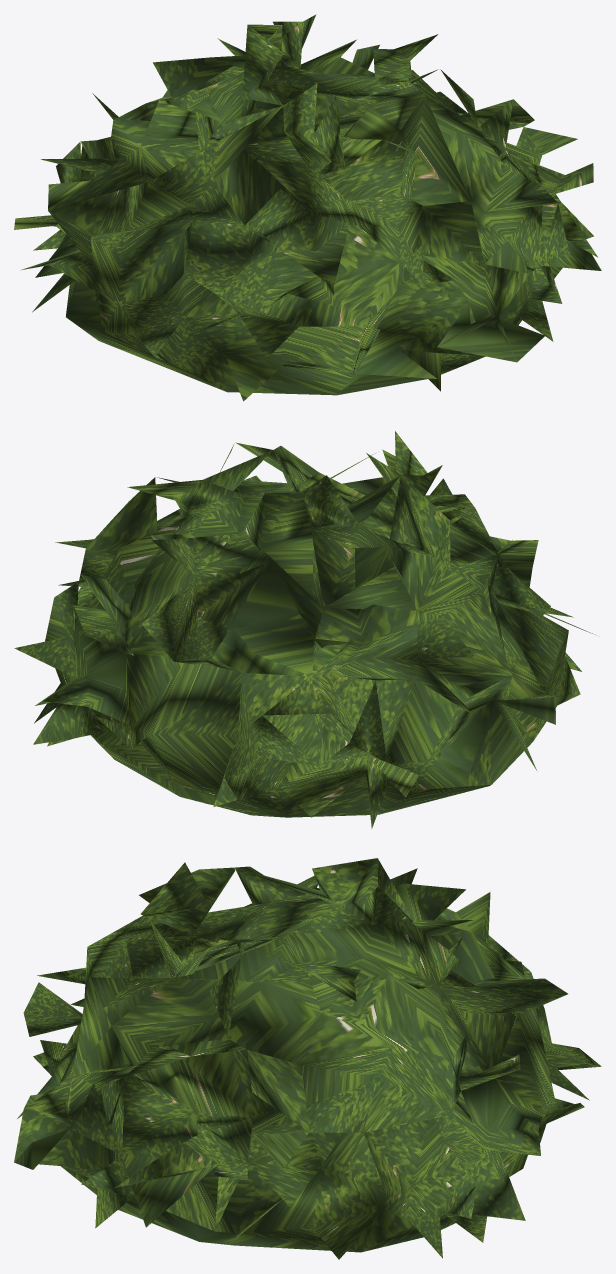
Rendered from bush-bloom.glb.
The picture shows the model from 3 angles, top to bottom: view 1: azimuth 30°, elevation 25°; view 2: azimuth 150°, elevation 25°; view 3: azimuth 270°, elevation 25°; orthographic projection. The views are drawn at different scales.
Parts seen in each view (by area): view 1: bush-bloom; view 2: bush-bloom; view 3: bush-bloom.
Part boxes in pixels (<box>): bush-bloom: <box>14,14,601,401</box>; bush-bloom: <box>14,431,594,828</box>; bush-bloom: <box>14,858,601,1259</box>.
Size of the model in its own units: 2.3 by 1.2 by 2.09.
Materials: 1 (1 with a texture image).
